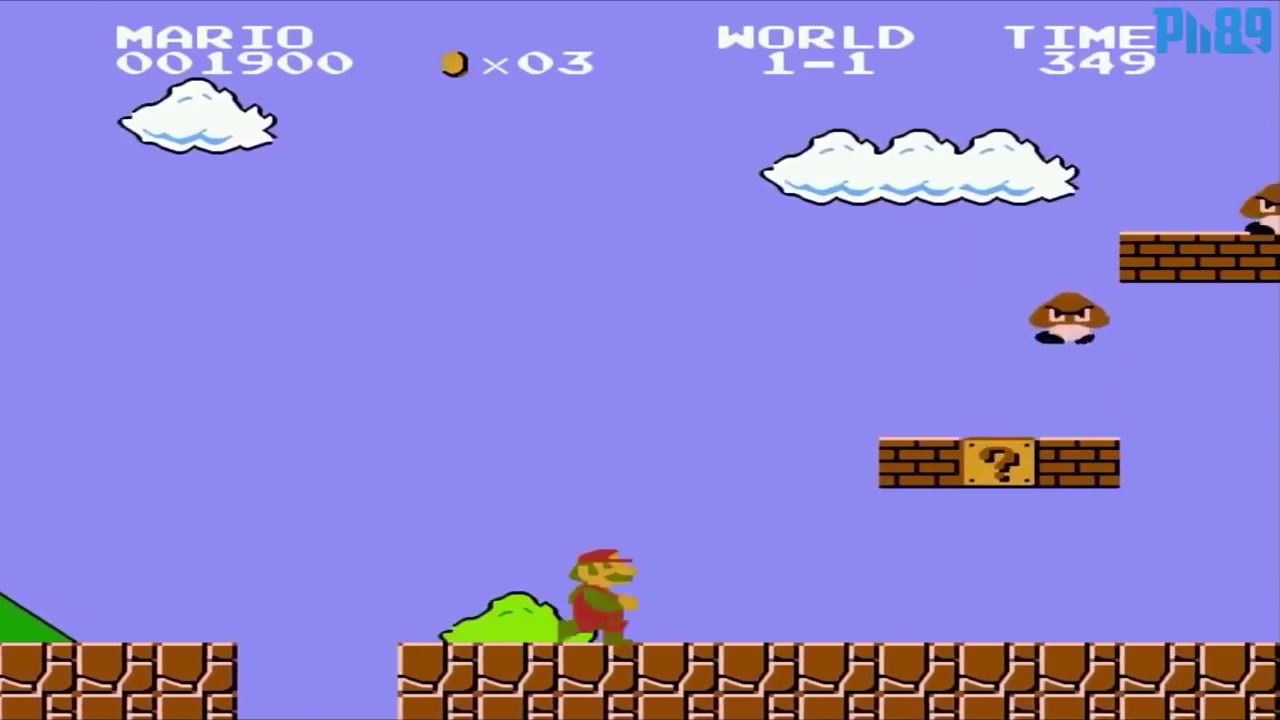mario: (546, 537, 650, 643)
